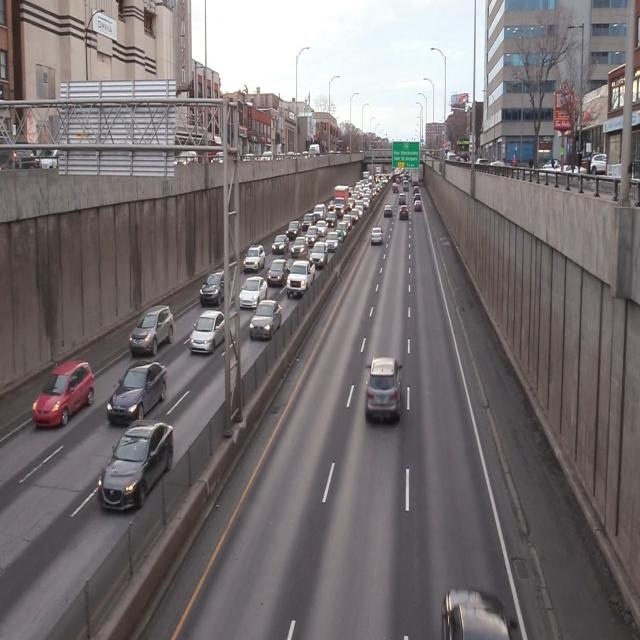Car: (98, 422, 177, 516), (33, 356, 96, 432), (108, 362, 168, 423), (363, 353, 404, 428), (129, 303, 174, 356), (189, 310, 229, 356), (249, 300, 282, 340), (200, 268, 230, 308), (286, 260, 316, 296), (240, 276, 266, 309), (267, 256, 289, 288), (243, 244, 266, 273), (310, 243, 329, 266), (291, 235, 308, 258), (271, 234, 290, 254), (369, 224, 384, 248)
